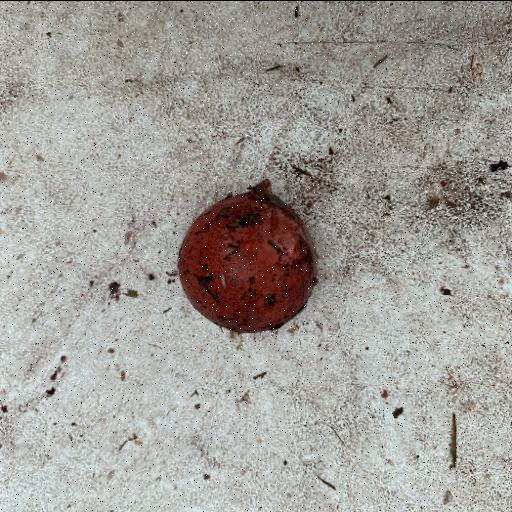Waste: (176, 178, 318, 336)
